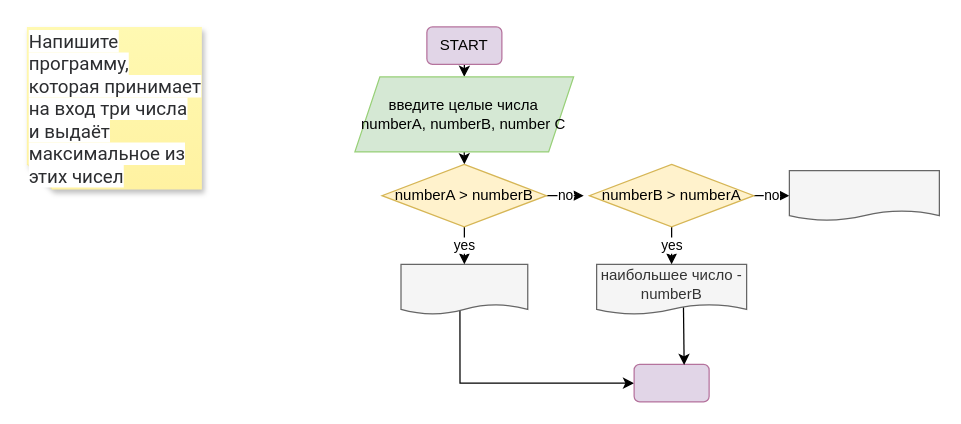
This 961x424 diagram has some shape labels left out. The centre of each missing label's shape, as x and y in pixels:
FINISH: the point at 671,382
numberA и numberB равны: the point at 863,195
наибольшее число - numberA: the point at 464,288
